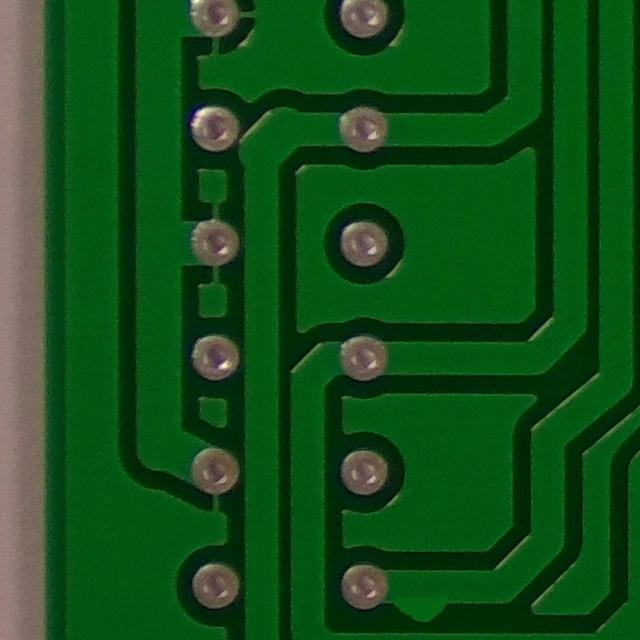spur: (382, 579, 450, 637)
